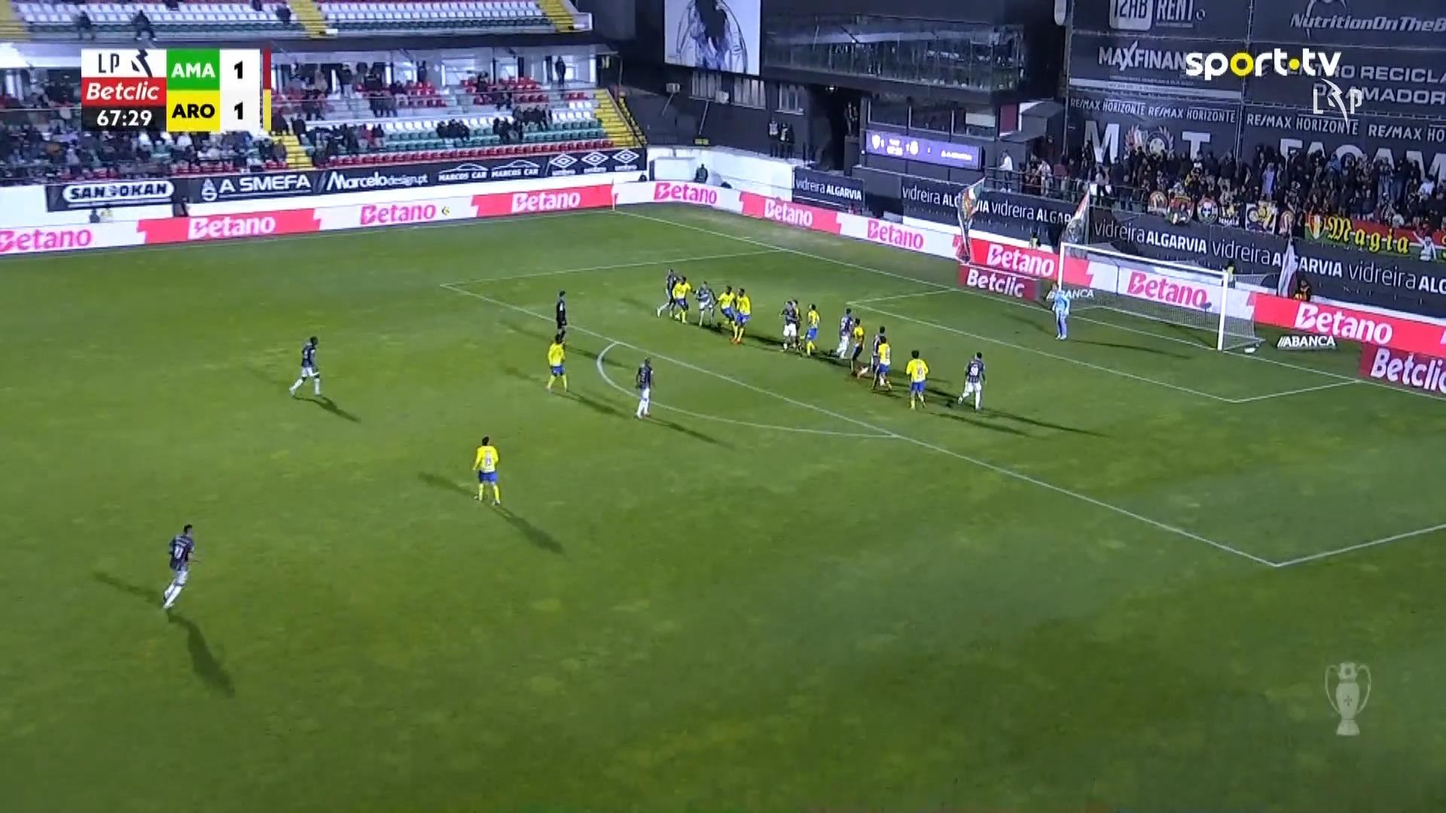goalkeeper: (1045, 280, 1070, 340)
player: (160, 522, 194, 610), (288, 335, 322, 398), (471, 435, 501, 506), (856, 325, 887, 384), (956, 351, 986, 410), (904, 349, 929, 410), (545, 330, 569, 392), (633, 357, 654, 418), (778, 298, 801, 352), (730, 286, 751, 344), (655, 267, 678, 318), (834, 305, 855, 358), (716, 284, 737, 336), (873, 336, 892, 392), (847, 318, 865, 377), (694, 280, 716, 327), (670, 275, 691, 323), (802, 302, 819, 357), (790, 300, 801, 354)
referee: (554, 288, 569, 342)
